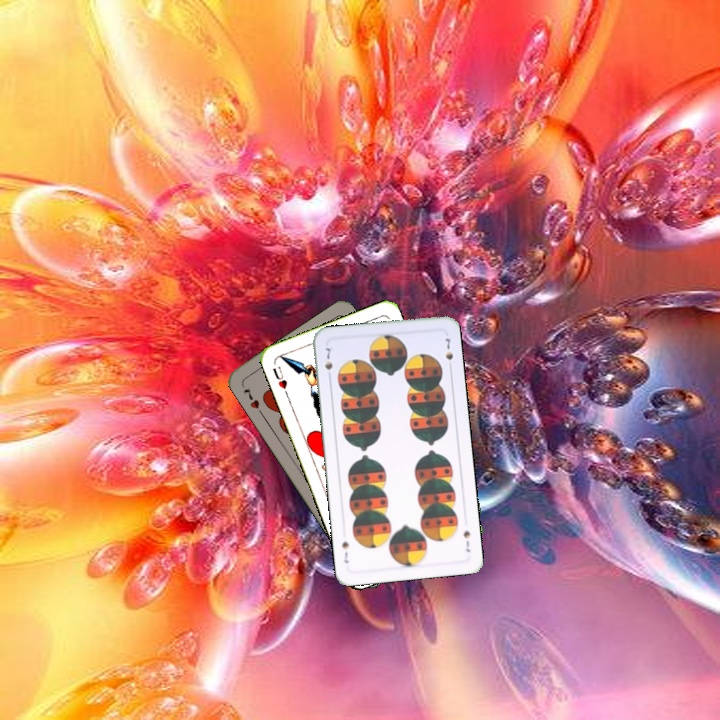H7: (239, 383, 262, 412)
HU: (268, 362, 291, 398)
S7: (321, 341, 335, 382), (459, 526, 473, 554)
